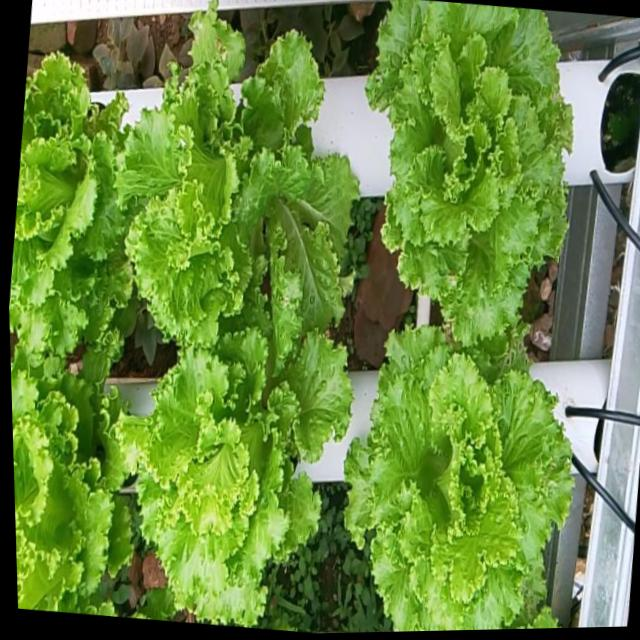Mature: (113, 10, 355, 341), (362, 0, 568, 356), (122, 306, 347, 626), (339, 329, 569, 632), (9, 50, 125, 354), (10, 347, 126, 613)
